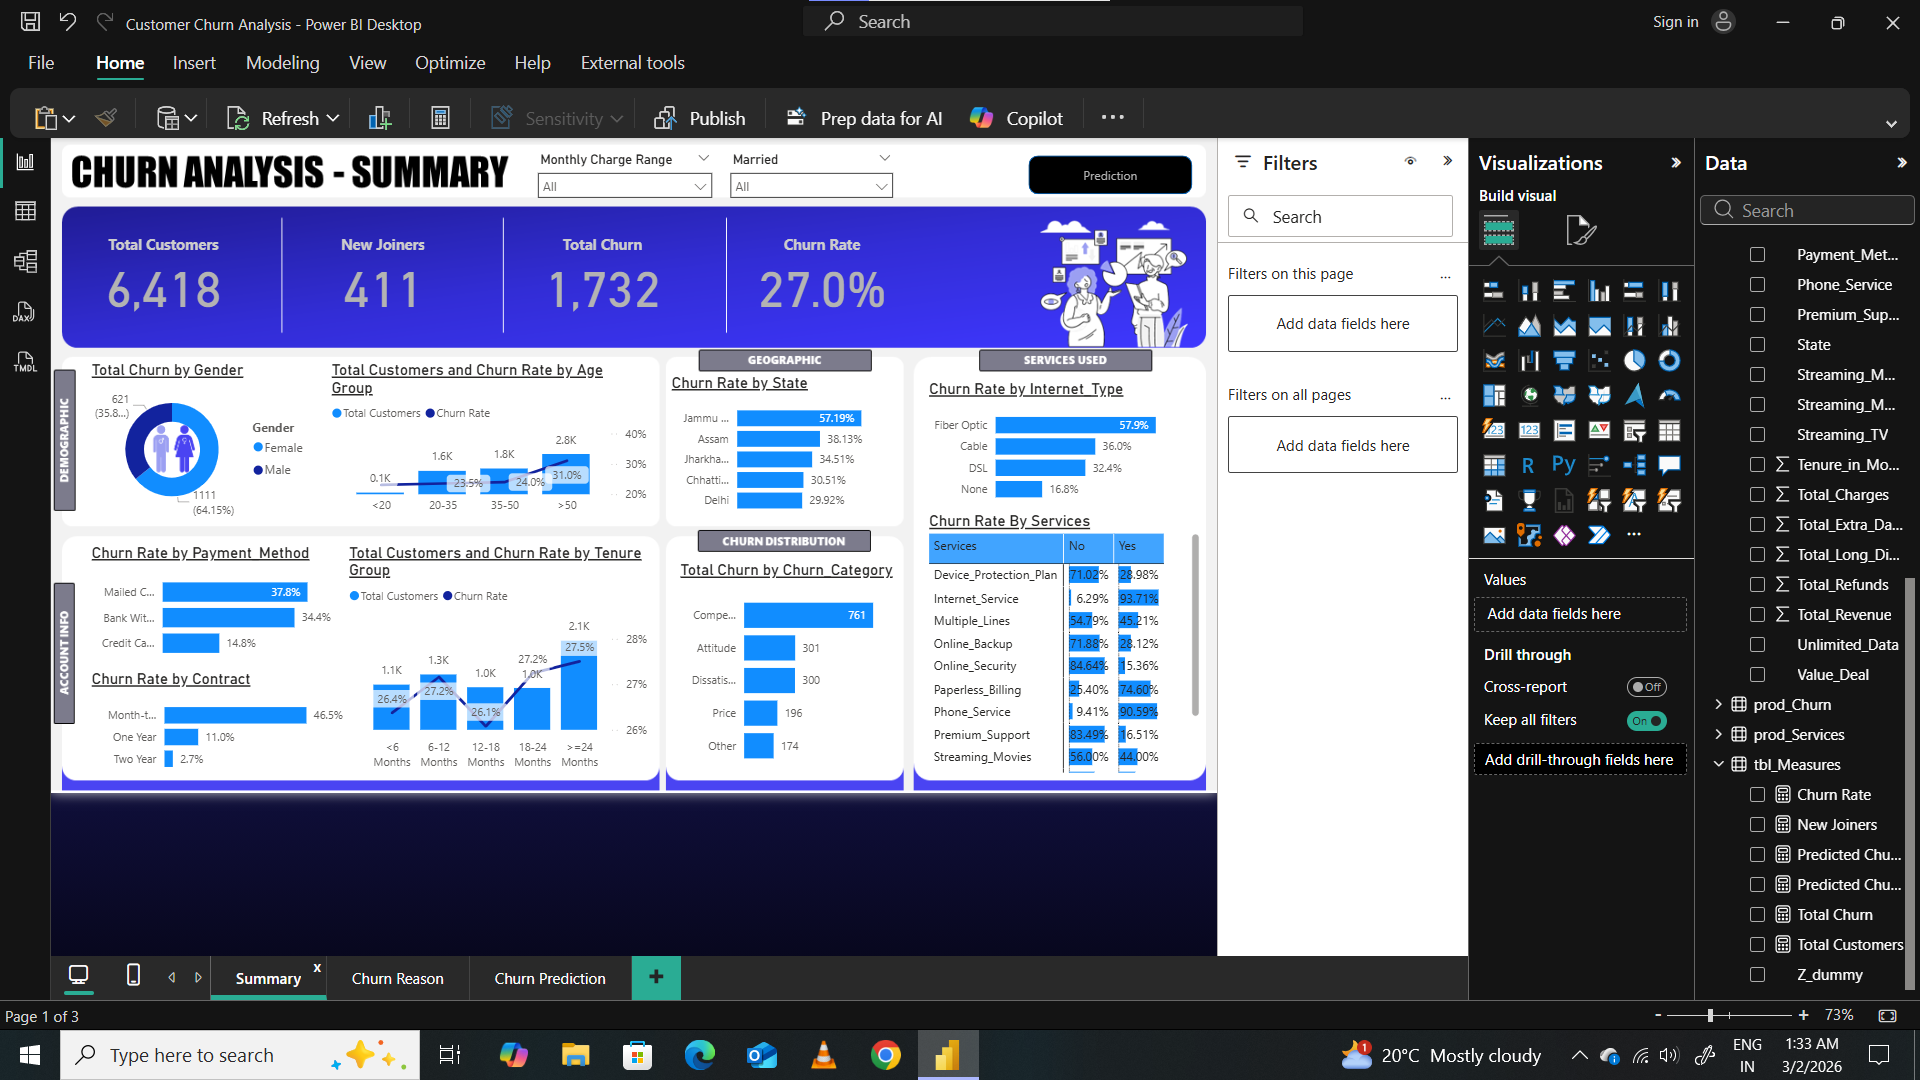

This screenshot's page, from the dashboard's own definition file:
{"tool":"powerbi","page":{"name":"Summary","canvas":[1280,720],"ordinal":0},"visuals":[{"type":"cardVisual","fields":{"Data":["tbl_Measures.Total Customers","tbl_Measures.New Joiners","tbl_Measures.Total Churn","tbl_Measures.Churn Rate"]},"box":[12.3,78.2,946.8,145.5],"z":0},{"type":"donutChart","fields":{"Category":["prod_Churn.Gender"],"Y":["tbl_Measures.Total Churn"]},"box":[39.8,244.3,252.5,177],"z":1000},{"type":"lineStackedColumnComboChart","fields":{"Category":["mapping_AgeGrp.Age Group"],"Y":["tbl_Measures.Total Customers"],"Y2":["tbl_Measures.Churn Rate"]},"box":[303.5,244.5,355.7,177],"z":2000},{"type":"clusteredBarChart","fields":{"Y":["tbl_Measures.Churn Rate"],"Category":["prod_Churn.Payment_Method"]},"box":[40.5,445.1,281.6,138.3],"z":3000},{"type":"clusteredBarChart","fields":{"Y":["tbl_Measures.Churn Rate"],"Category":["prod_Churn.Contract"]},"box":[40.5,583.4,281.6,118],"z":4000},{"type":"lineStackedColumnComboChart","fields":{"Category":["mapping_TenureGrp.Tenure Group"],"Y":["tbl_Measures.Total Customers"],"Y2":["tbl_Measures.Churn Rate"]},"box":[322,445.1,337.2,256.3],"z":5000},{"type":"clusteredBarChart","fields":{"Y":["tbl_Measures.Churn Rate"],"Category":["prod_Churn.State"]},"box":[676.1,258,256.3,163.5],"z":7000},{"type":"clusteredBarChart","fields":{"Category":["prod_Churn.Churn_Category"],"Y":["tbl_Measures.Total Churn"]},"box":[686.2,463.7,246.2,237.7],"z":8000},{"type":"clusteredBarChart","fields":{"Y":["tbl_Measures.Churn Rate"],"Category":["prod_Churn.Internet_Type"]},"box":[959.3,264.7,293.4,145],"z":9000},{"type":"pivotTable","title":"Churn Rate By Services","fields":{"Columns":["prod_Services.Status"],"Rows":["prod_Services.Services"],"Values":["Sum(prod_Services.Churn Status)"]},"box":[959.3,409.7,306.9,291.7],"z":10000},{"type":"slicer","fields":{"Values":["prod_Churn.Monthly Charge Status"]},"box":[524.2,9.6,211.3,63.1],"z":11000},{"type":"image","box":[89.2,301.9,91.9,76.8],"z":12000},{"type":"slicer","fields":{"Values":["prod_Churn.Married"]},"box":[735.5,9.6,199,64.5],"z":13000},{"type":"shape","box":[1073.1,19.2,179.8,42.5],"z":13001}]}

Visuals, with their boxes on the page's 1280x720 design canvas (x1, y1, x2, y2). These are canvas units, not pixel positions in the 1920x1080 screenshot, which may show the page scaled, cropped or inside an application window:
cardVisual - tbl_Measures.Total Customers x tbl_Measures.New Joiners: 12, 78, 959, 224
donutChart - prod_Churn.Gender x tbl_Measures.Total Churn: 40, 244, 292, 421
lineStackedColumnComboChart - mapping_AgeGrp.Age Group x tbl_Measures.Total Customers: 304, 244, 659, 422
clusteredBarChart - tbl_Measures.Churn Rate x prod_Churn.Payment_Method: 40, 445, 322, 583
clusteredBarChart - tbl_Measures.Churn Rate x prod_Churn.Contract: 40, 583, 322, 701
lineStackedColumnComboChart - mapping_TenureGrp.Tenure Group x tbl_Measures.Total Customers: 322, 445, 659, 701
clusteredBarChart - tbl_Measures.Churn Rate x prod_Churn.State: 676, 258, 932, 422
clusteredBarChart - prod_Churn.Churn_Category x tbl_Measures.Total Churn: 686, 464, 932, 701
clusteredBarChart - tbl_Measures.Churn Rate x prod_Churn.Internet_Type: 959, 265, 1253, 410
"Churn Rate By Services" pivotTable: 959, 410, 1266, 701
slicer - prod_Churn.Monthly Charge Status: 524, 10, 736, 73
image: 89, 302, 181, 379
slicer - prod_Churn.Married: 736, 10, 934, 74
shape: 1073, 19, 1253, 62
